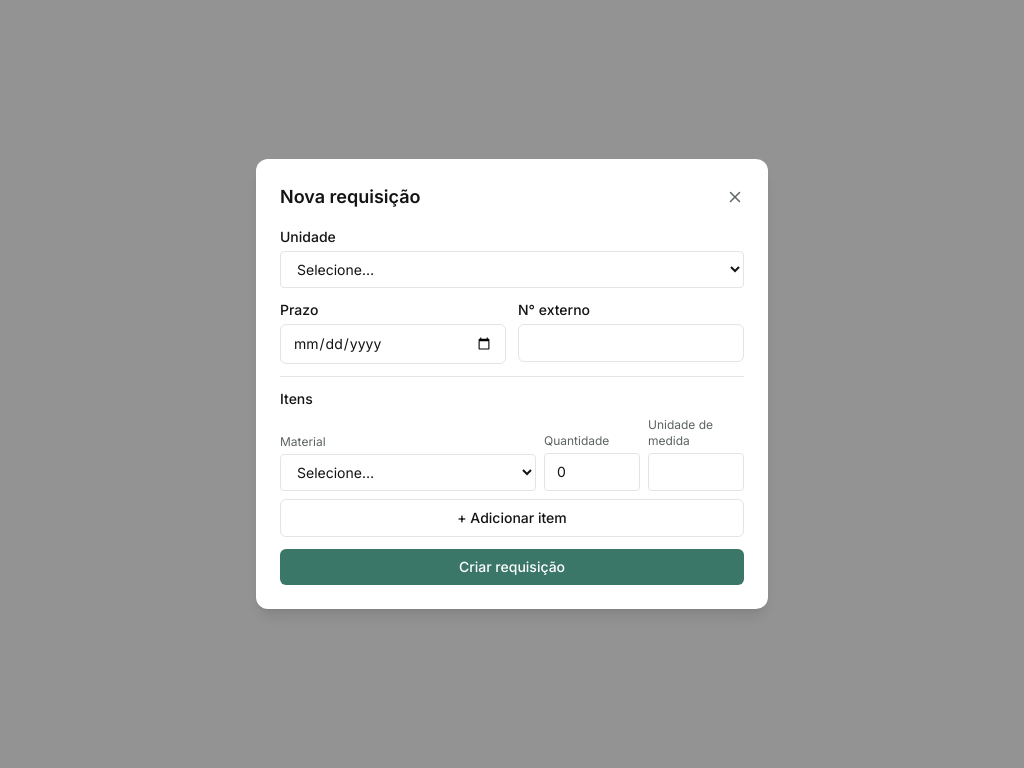
Test: RequestFormModal › exige unidade e ao menos um item válido ao enviar
Step 1. Click the button "Criar requisição" → coordinates (512, 567), box [280, 549, 744, 585]
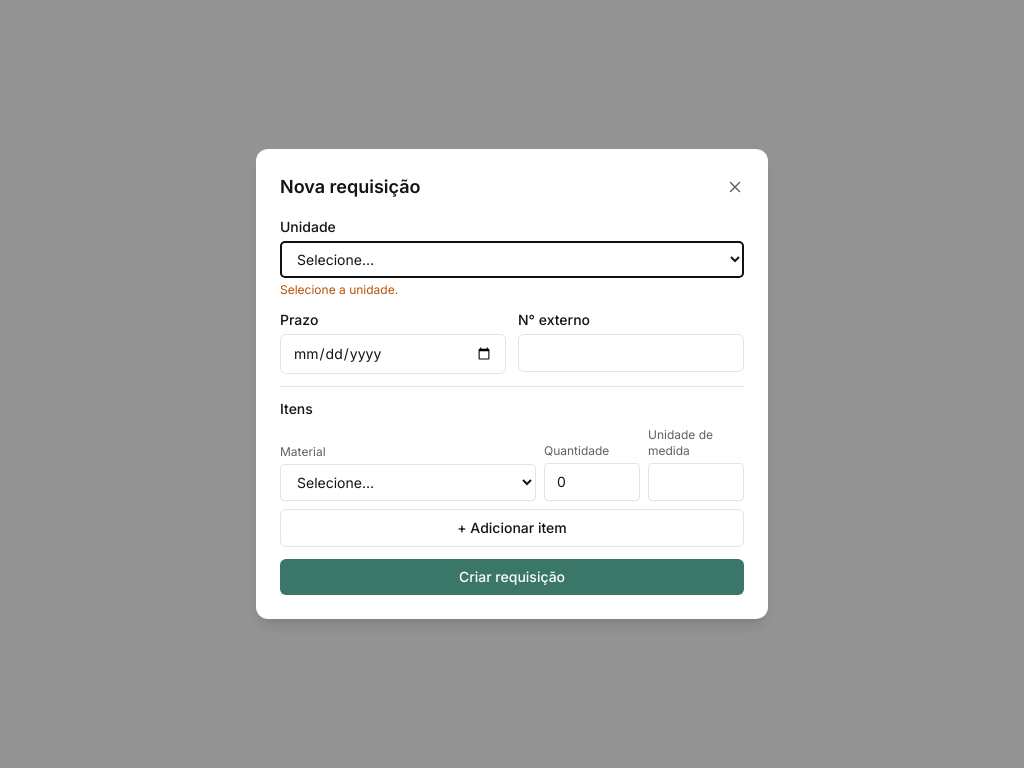
expect the text "Selecione a unidade." is shown: met, box [280, 282, 398, 297]
